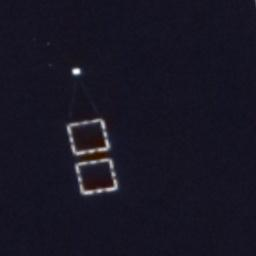square_solid: (62, 116, 115, 159), (72, 155, 122, 198)
